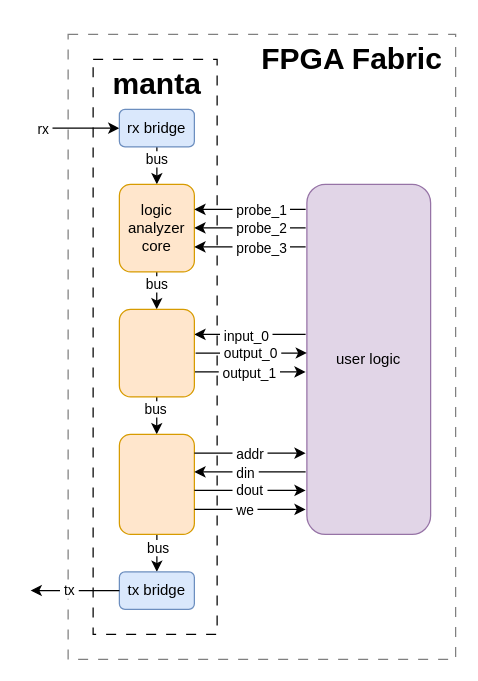
The diagram is 478 pixels wide and 681 high, and some of its shapes have lost their labels. The box of each missing label's shape, as (x1, y1, x2, y2) in pixels:
block memory core: (118, 433, 194, 534)
io core: (118, 308, 194, 397)
